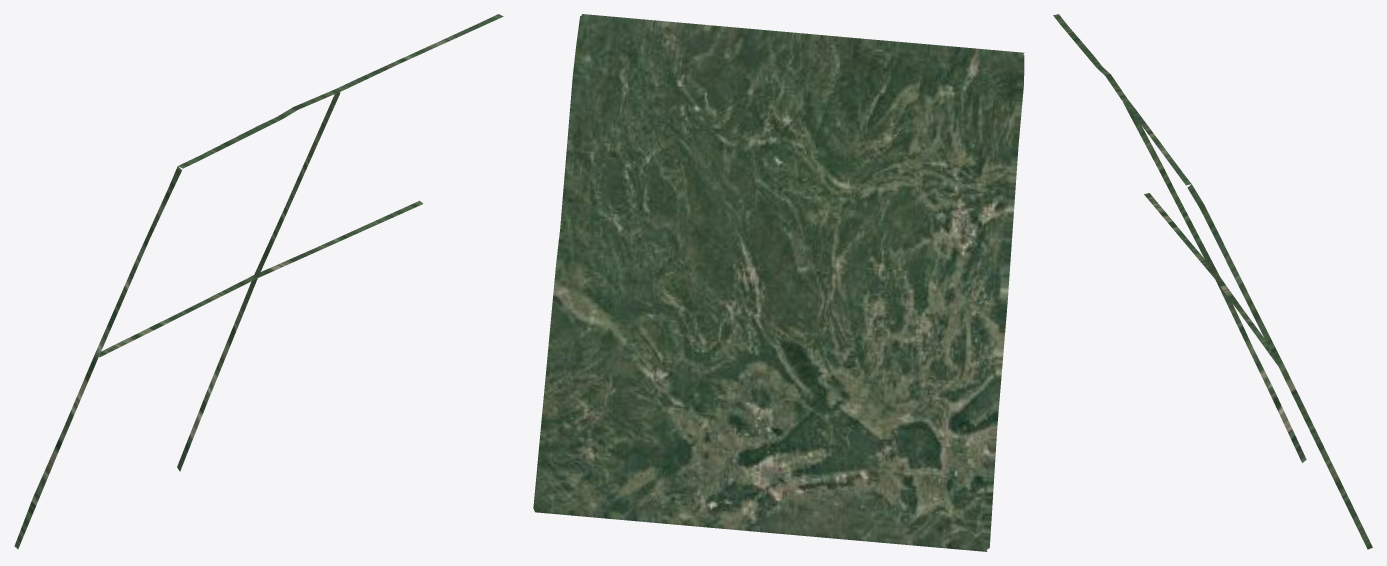
3 renders of one model, left to right at view 1: azimuth 30°, elevation 25°; view 2: azimuth 150°, elevation 25°; view 3: azimuth 270°, elevation 25°, orthographic. The views are drawn at different scales.
Bounding box in the file's own units: 314685 × 289804 × 214716.
Materials: 1 (1 with a texture image).
